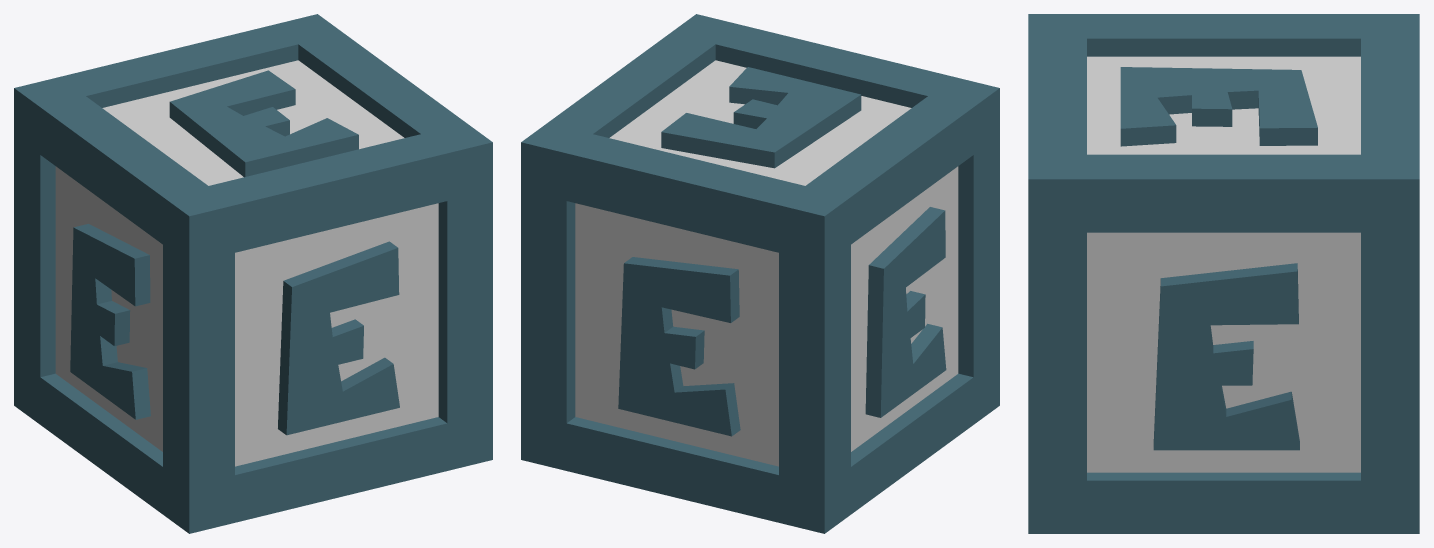
Rendered from Block_E.fbx.
3 views of the same model, side by side, from view 1: azimuth 30°, elevation 25°; view 2: azimuth 150°, elevation 25°; view 3: azimuth 270°, elevation 25° (orthographic). The views are drawn at different scales.
Parts seen in each view (by area): view 1: Block_E; view 2: Block_E; view 3: Block_E.
Boxes of the visible parts, bbox=[...] form: Block_E: bbox=[14, 14, 492, 533]; Block_E: bbox=[521, 14, 999, 533]; Block_E: bbox=[1028, 14, 1419, 533].
Bounding box in the file's own units: 10 × 10 × 10.
